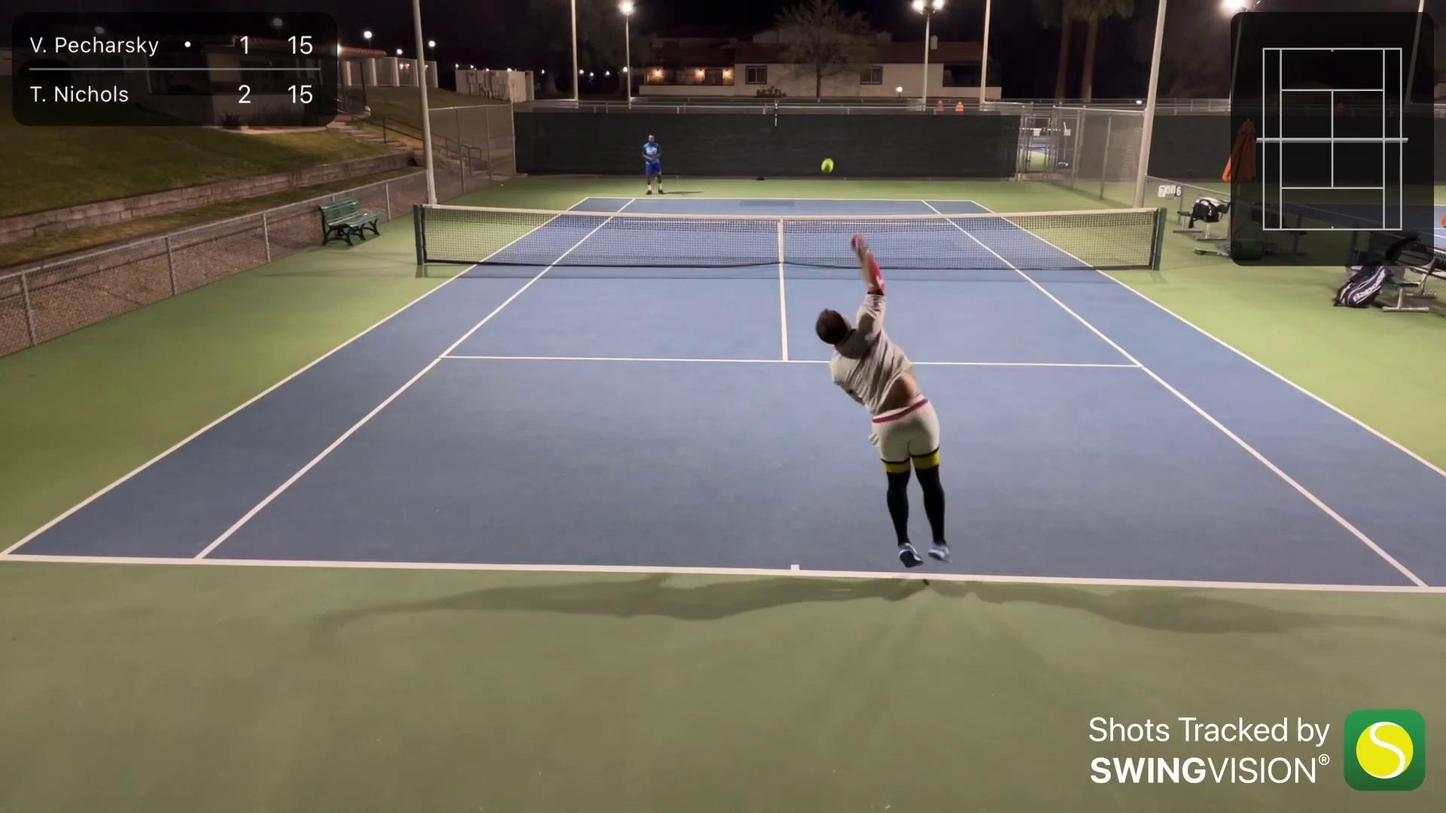ball: (819, 158, 837, 176)
